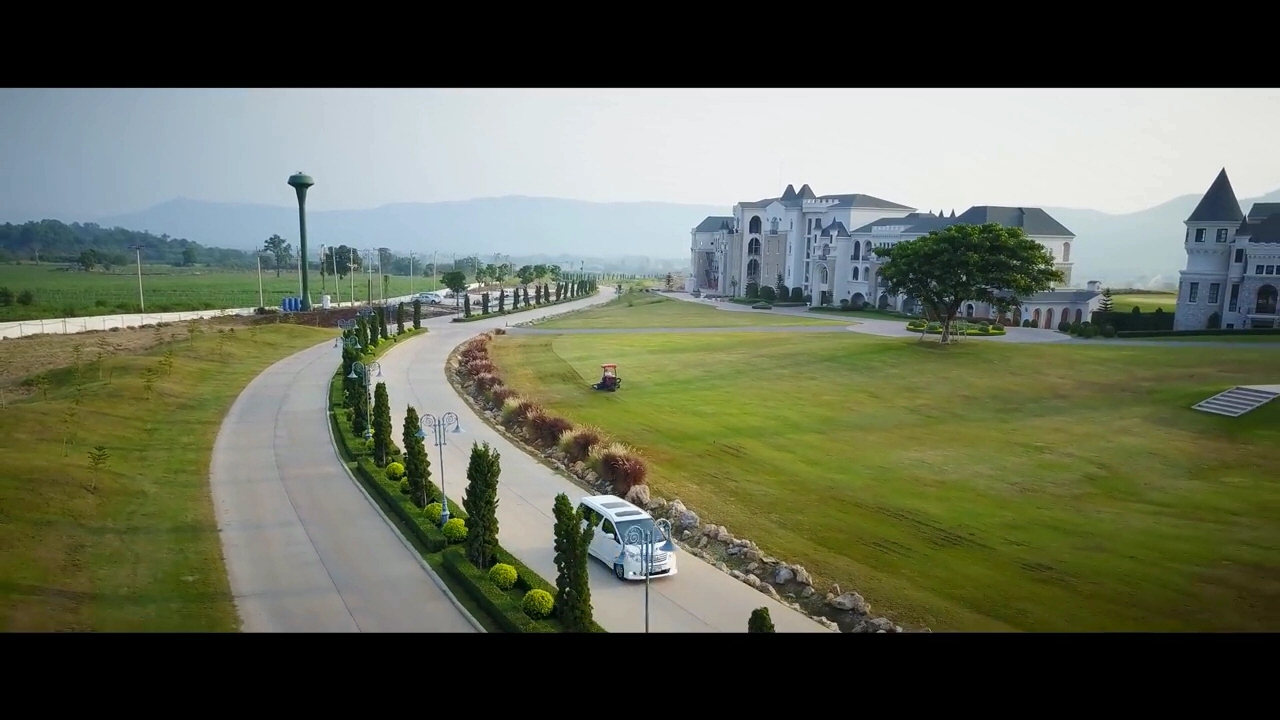araba: (573, 493, 675, 583), (413, 293, 441, 303)
